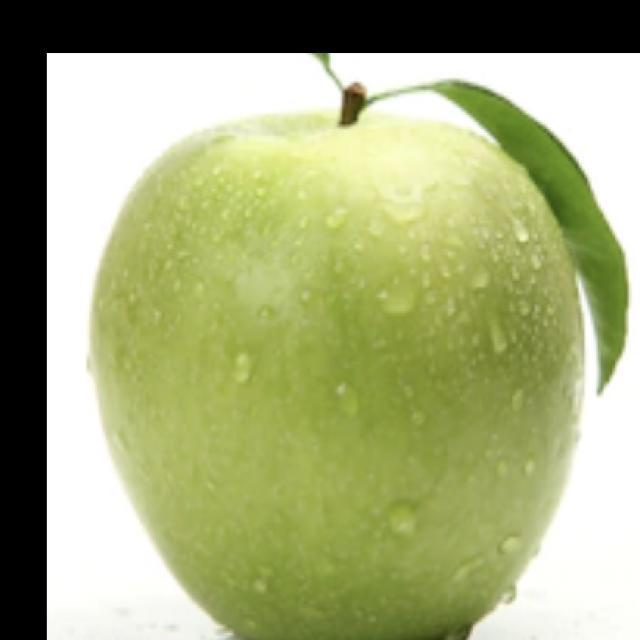Fresh Apple: (106, 106, 568, 640)
